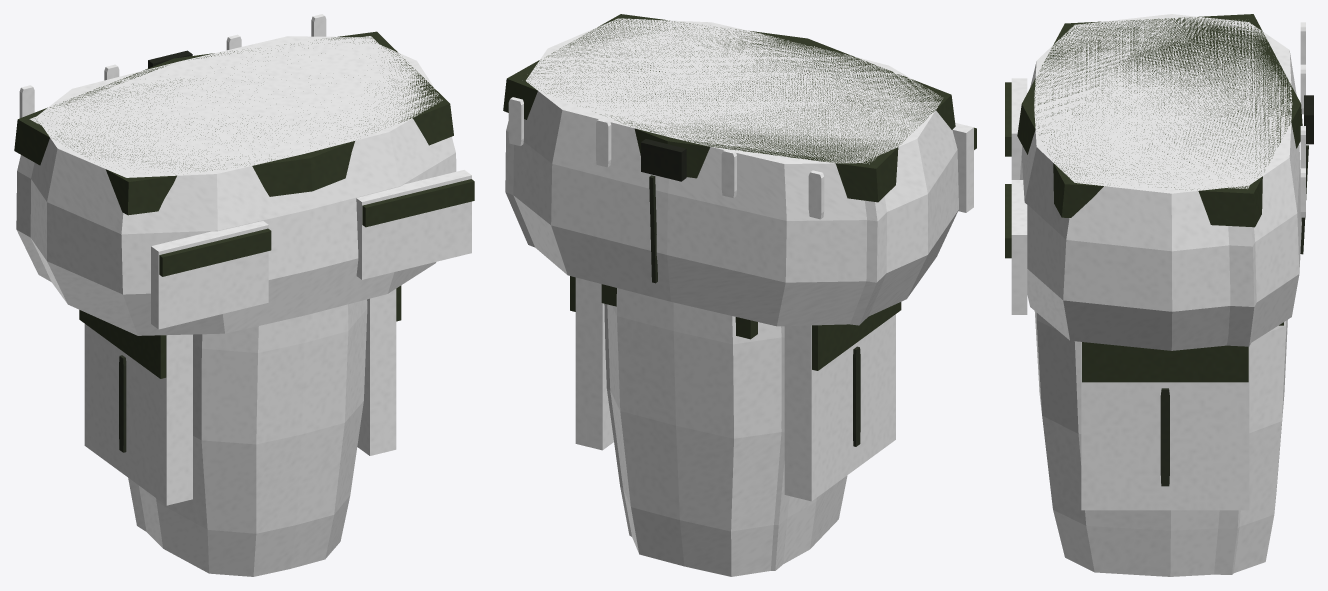
File: trousers_kombat.glb
3 renders of one model, left to right at view 1: azimuth 30°, elevation 25°; view 2: azimuth 150°, elevation 25°; view 3: azimuth 270°, elevation 25°, orthographic. The views are drawn at different scales.
Parts seen in each view (by area): view 1: trousers_kombat_pelvis_LOD0_RAID_cloth.001, trousers_kombat_thighL_LOD0_RAID_cloth.001, trousers_kombat_pelvis_LOD1_RAID_cloth.001, trousers_kombat_pelvis_LOD0_RAID_reinforce.001, trousers_kombat_thighL_LOD1_RAID_cloth.001, trousers_kombat_thighR_LOD1_RAID_cloth.001, trousers_kombat_thighR_LOD0_RAID_cloth.001, trousers_kombat_pelvis_LOD1_RAID_reinforce.001, trousers_kombat_thighL_LOD0_RAID_reinforce.001, trousers_kombat_thighL_LOD0_RAID_seam.001; view 2: trousers_kombat_pelvis_LOD0_RAID_cloth.001, trousers_kombat_thighL_LOD0_RAID_cloth.001, trousers_kombat_pelvis_LOD0_RAID_reinforce.001, trousers_kombat_thighL_LOD1_RAID_cloth.001, trousers_kombat_pelvis_LOD1_RAID_cloth.001, trousers_kombat_thighR_LOD0_RAID_cloth.001, trousers_kombat_thighR_LOD1_RAID_cloth.001, trousers_kombat_thighL_LOD1_RAID_reinforce.001, trousers_kombat_pelvis_LOD0_RAID_zip.001, trousers_kombat_pelvis_LOD1_RAID_zip.001, trousers_kombat_thighL_LOD0_RAID_seam.001, trousers_kombat_pelvis_LOD0_RAID_seam.001 (+1 smaller); view 3: trousers_kombat_pelvis_LOD0_RAID_cloth.001, trousers_kombat_thighL_LOD0_RAID_cloth.001, trousers_kombat_pelvis_LOD0_RAID_reinforce.001, trousers_kombat_thighR_LOD0_RAID_cloth.001, trousers_kombat_pelvis_LOD1_RAID_cloth.001, trousers_kombat_thighR_LOD1_RAID_cloth.001, trousers_kombat_thighR_LOD0_RAID_reinforce.001, trousers_kombat_thighR_LOD1_RAID_reinforce.001, trousers_kombat_thighL_LOD1_RAID_cloth.001, trousers_kombat_thighR_LOD0_RAID_seam.001, trousers_kombat_pelvis_LOD1_RAID_reinforce.001.
Boxes of the visible parts, x1,y1,x2,y2 form: trousers_kombat_pelvis_LOD0_RAID_cloth.001: (19,14,471,335); trousers_kombat_thighL_LOD0_RAID_cloth.001: (84,299,367,576); trousers_kombat_pelvis_LOD1_RAID_cloth.001: (16,36,471,329); trousers_kombat_pelvis_LOD0_RAID_reinforce.001: (14,31,474,275); trousers_kombat_thighL_LOD1_RAID_cloth.001: (84,324,192,531); trousers_kombat_thighR_LOD1_RAID_cloth.001: (361,289,396,455); trousers_kombat_thighR_LOD0_RAID_cloth.001: (357,291,396,452); trousers_kombat_pelvis_LOD1_RAID_reinforce.001: (159,179,474,276); trousers_kombat_thighL_LOD0_RAID_reinforce.001: (80,310,166,374); trousers_kombat_thighL_LOD0_RAID_seam.001: (119,355,126,452); trousers_kombat_pelvis_LOD0_RAID_cloth.001: (508,18,973,326); trousers_kombat_thighL_LOD0_RAID_cloth.001: (607,288,895,576); trousers_kombat_pelvis_LOD0_RAID_reinforce.001: (503,14,976,202); trousers_kombat_thighL_LOD1_RAID_cloth.001: (604,303,895,570); trousers_kombat_pelvis_LOD1_RAID_cloth.001: (505,20,973,325); trousers_kombat_thighR_LOD0_RAID_cloth.001: (575,278,613,446); trousers_kombat_thighR_LOD1_RAID_cloth.001: (575,277,613,450); trousers_kombat_thighL_LOD1_RAID_reinforce.001: (812,302,901,370); trousers_kombat_pelvis_LOD0_RAID_zip.001: (641,140,686,180); trousers_kombat_pelvis_LOD1_RAID_zip.001: (641,139,686,181); trousers_kombat_thighL_LOD0_RAID_seam.001: (853,346,860,446); trousers_kombat_pelvis_LOD0_RAID_seam.001: (649,175,657,283); trousers_kombat_pelvis_LOD0_RAID_cloth.001: (1011,14,1305,350); trousers_kombat_thighL_LOD0_RAID_cloth.001: (1034,311,1287,576); trousers_kombat_pelvis_LOD0_RAID_reinforce.001: (1005,14,1302,255); trousers_kombat_thighR_LOD0_RAID_cloth.001: (1081,342,1249,510); trousers_kombat_pelvis_LOD1_RAID_cloth.001: (1011,19,1290,346); trousers_kombat_thighR_LOD1_RAID_cloth.001: (1081,382,1249,510); trousers_kombat_thighR_LOD0_RAID_reinforce.001: (1082,342,1248,382); trousers_kombat_thighR_LOD1_RAID_reinforce.001: (1082,342,1248,382); trousers_kombat_thighL_LOD1_RAID_cloth.001: (1214,510,1240,574); trousers_kombat_thighR_LOD0_RAID_seam.001: (1160,388,1169,486); trousers_kombat_pelvis_LOD1_RAID_reinforce.001: (1005,82,1011,258).
Bounding box in the file's own units: 0.404 × 0.438 × 0.2775.
Materials: 4 (4 with a texture image).
